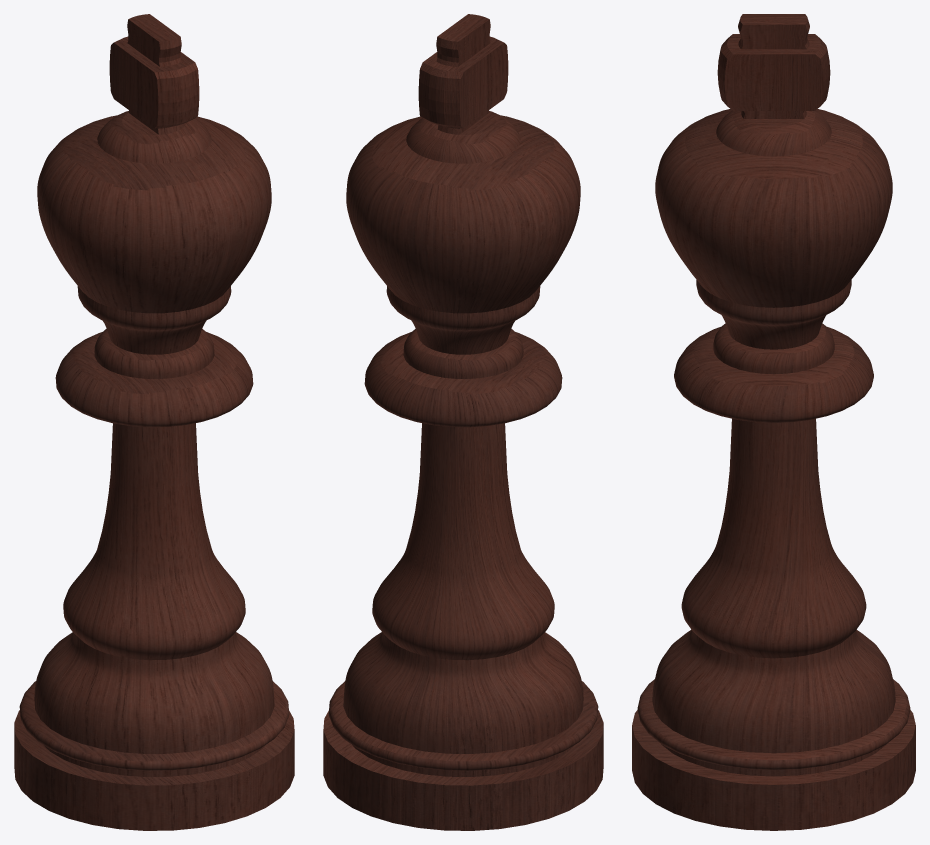
File: black-king.glb
3 renders of one model, left to right at view 1: azimuth 30°, elevation 25°; view 2: azimuth 150°, elevation 25°; view 3: azimuth 270°, elevation 25°, orthographic.
Parts seen in each view (by area): view 1: ScacchiBianchi_Re.002_Material #50_0; view 2: ScacchiBianchi_Re.002_Material #50_0; view 3: ScacchiBianchi_Re.002_Material #50_0.
Part boxes in pixels (x1,y1,x2,y2): ScacchiBianchi_Re.002_Material #50_0: (14,14,294,830); ScacchiBianchi_Re.002_Material #50_0: (323,14,603,830); ScacchiBianchi_Re.002_Material #50_0: (632,14,915,830).
Size of the model in its own units: 3.5 by 10.23 by 3.5.
1 material, 1 textured.
